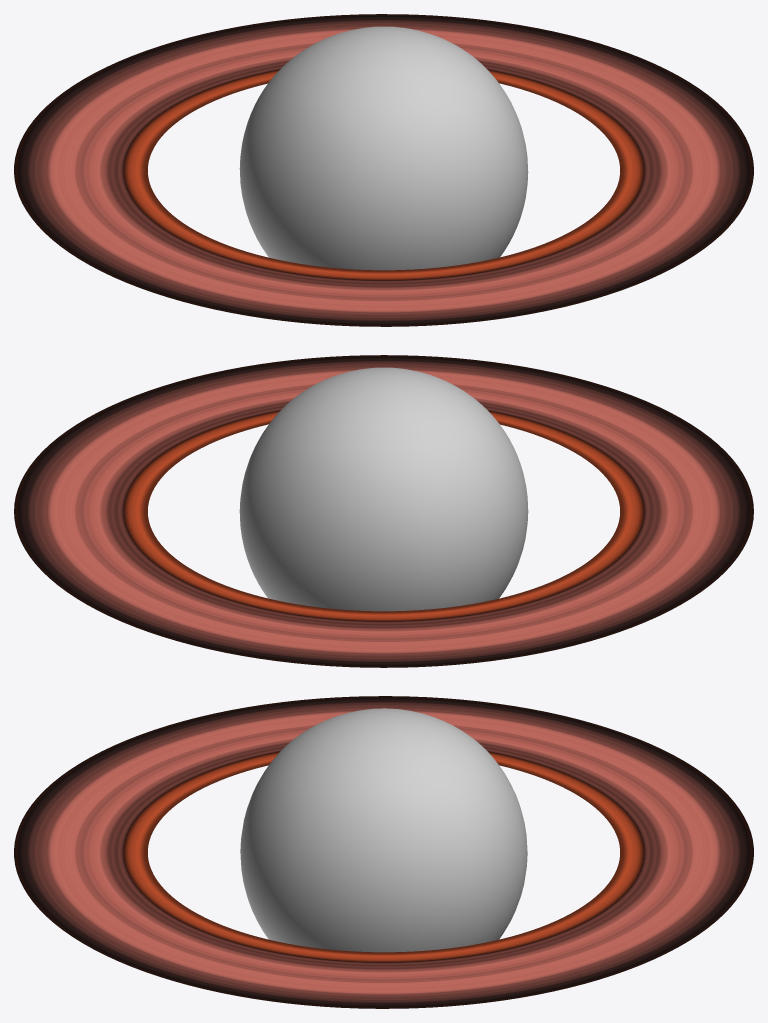
3 renders of one model, top to bottom at view 1: azimuth 30°, elevation 25°; view 2: azimuth 150°, elevation 25°; view 3: azimuth 270°, elevation 25°, orthographic.
Parts seen in each view (by area): view 1: space_object_001_gas_giant; view 2: space_object_001_gas_giant; view 3: space_object_001_gas_giant.
Boxes of the visible parts, x1,y1,x2,y2 form: space_object_001_gas_giant: (14, 14, 753, 326); space_object_001_gas_giant: (14, 355, 753, 667); space_object_001_gas_giant: (14, 696, 753, 1008).
Bounding box in the file's own units: 25.81 × 10.02 × 25.81.
